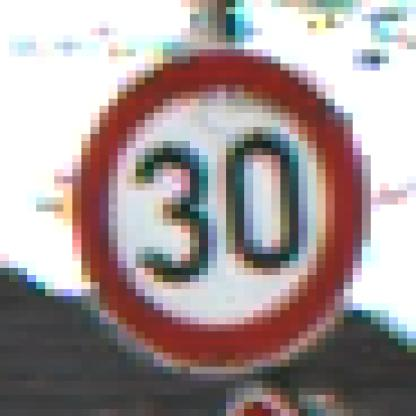Speed Limit 30: (76, 51, 363, 368)
